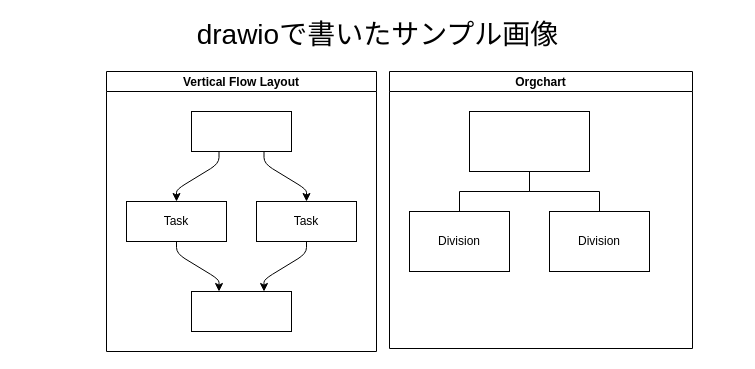
This 755x369 diagram has some shape labels left out. Here are the shapes that lost their labels. From the top down, the centre of each, then its label:
(241,131): Start
(529,141): Organization
(241,311): End
